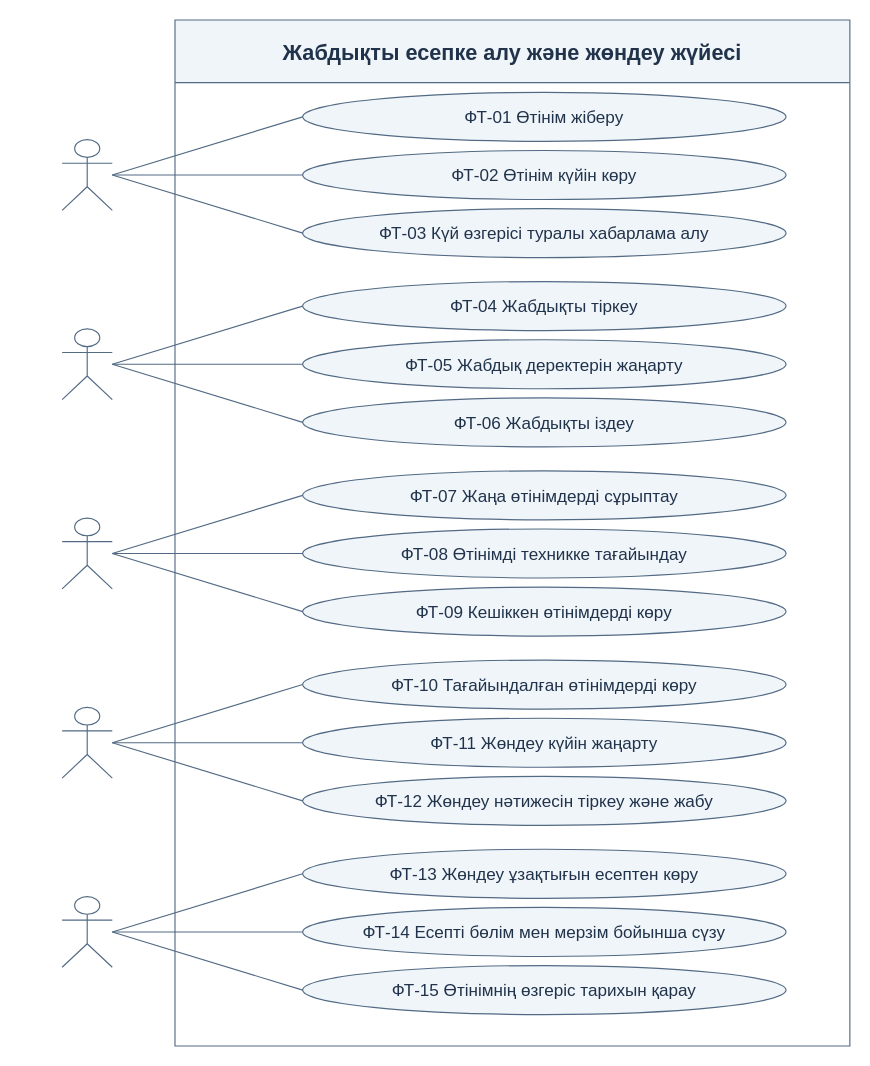
This 870x1066 diagram has some shape labels left out. Here are the shapes that lost their labels. From the top down, the centre of each, then its label:
the point at 86,174: Қызметкер
the point at 86,364: Қойма жауаптысы
the point at 86,553: Үйлестіруші
the point at 86,742: Техник
the point at 86,931: Бөлім басшысы
